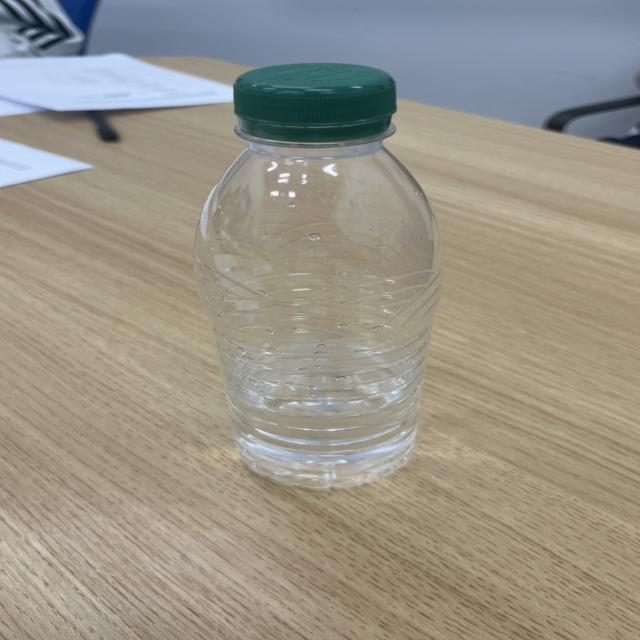medium: (195, 64, 441, 488)
